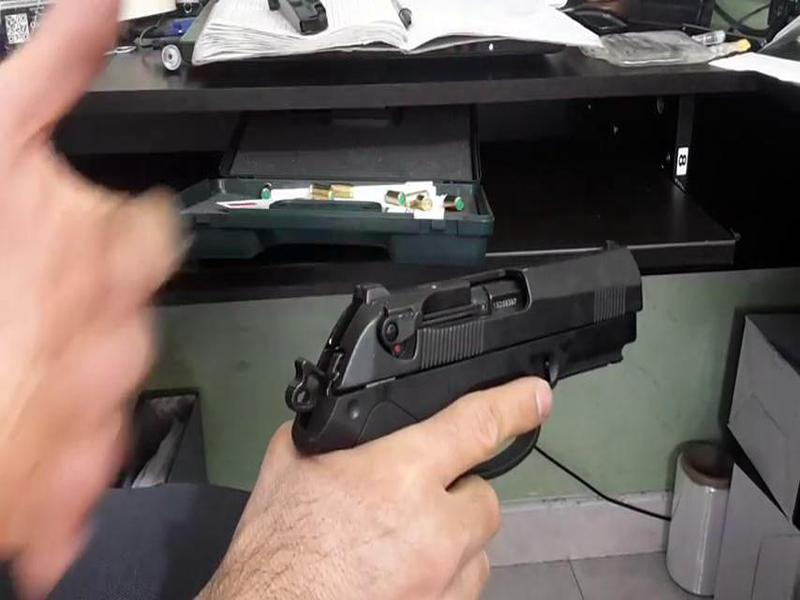Pistola: (279, 234, 678, 491)
